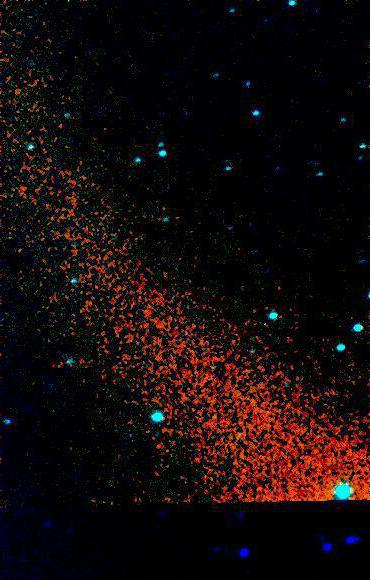star: (56, 86, 86, 116)
